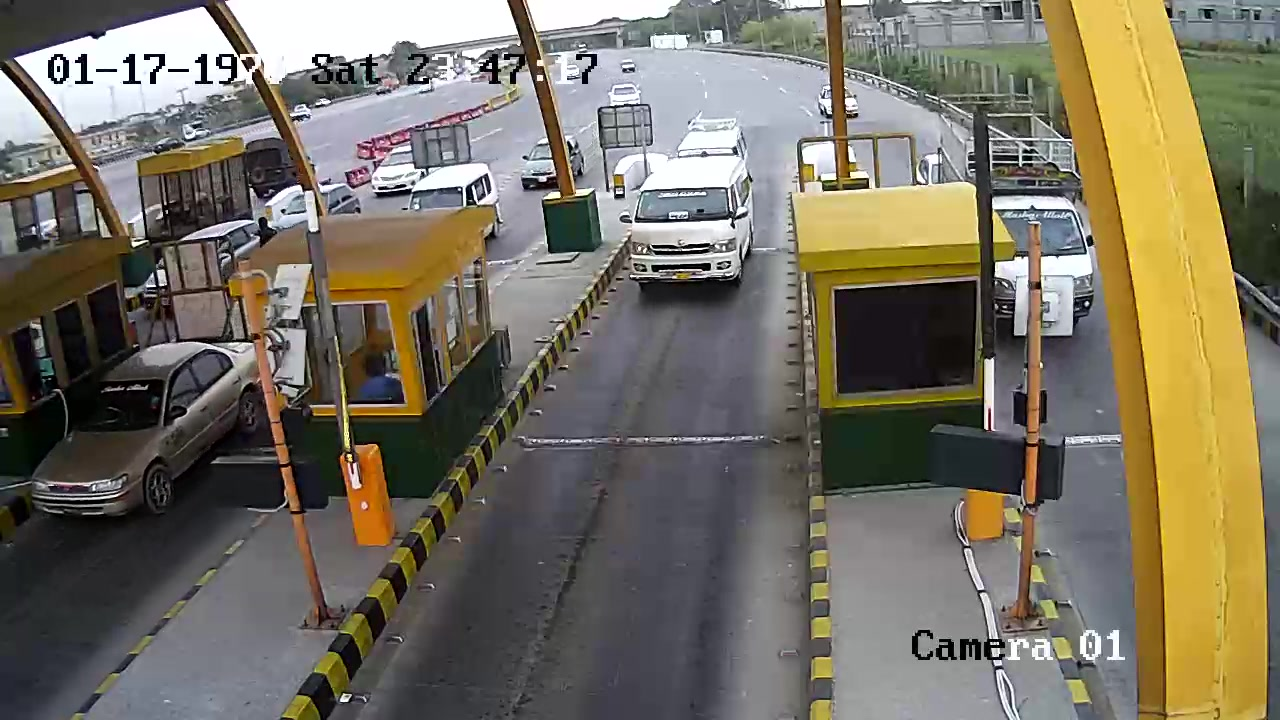F2: (621, 145, 769, 300)
